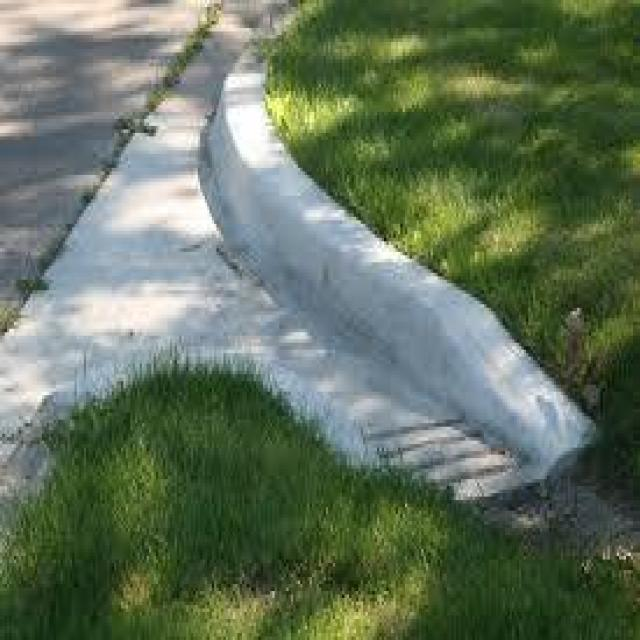curb: (258, 192, 445, 379), (397, 310, 608, 471), (206, 88, 298, 261)
